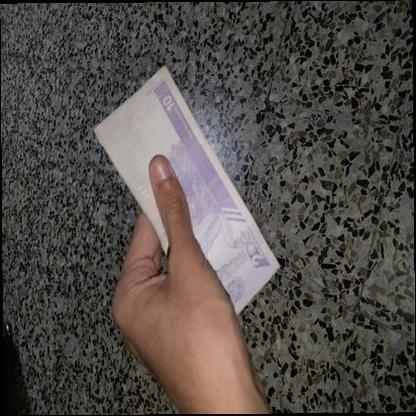ten-back-vef: (93, 66, 281, 327)
